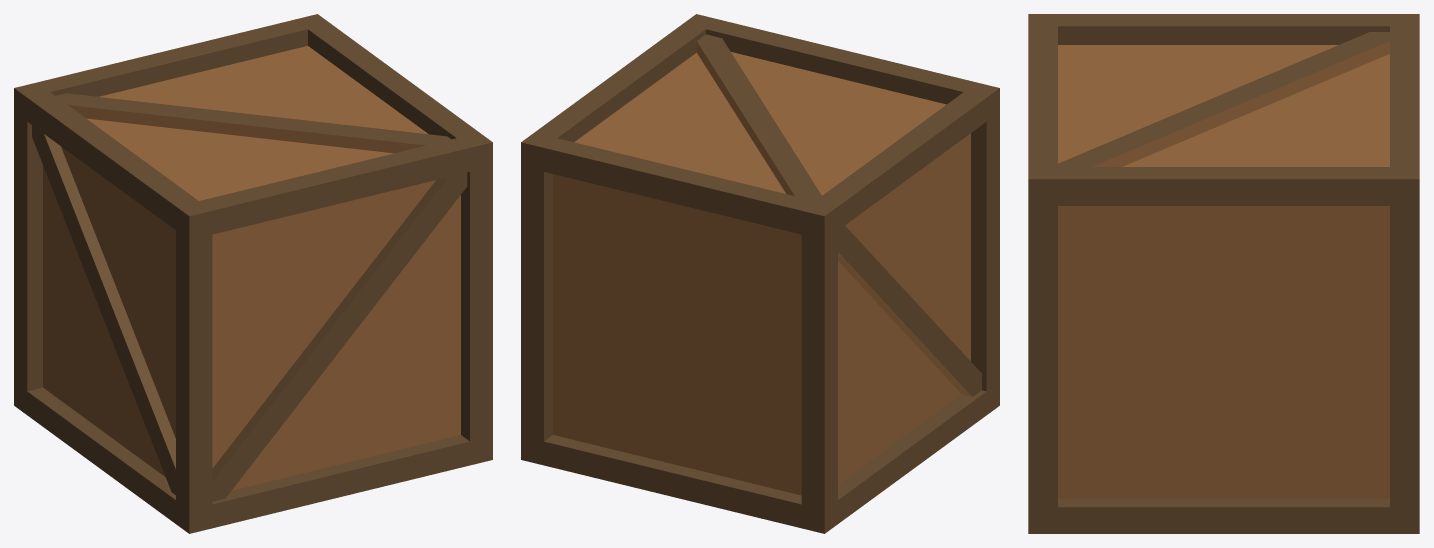
The model's file is Crate1.fbx.
The picture shows the model from 3 angles, left to right: view 1: azimuth 30°, elevation 25°; view 2: azimuth 150°, elevation 25°; view 3: azimuth 270°, elevation 25°; orthographic projection. The views are drawn at different scales.
Visible parts, largest first — view 1: Crate; view 2: Crate; view 3: Crate.
Part boxes in pixels (x1=…): Crate: x1=14, y1=14, x2=492, y2=533; Crate: x1=521, y1=14, x2=999, y2=533; Crate: x1=1028, y1=14, x2=1419, y2=533.
Size of the model in its own units: 0.4 by 0.4 by 0.4.
